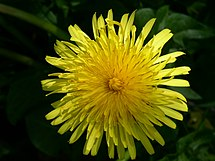dandelion: (55, 22, 185, 157)
